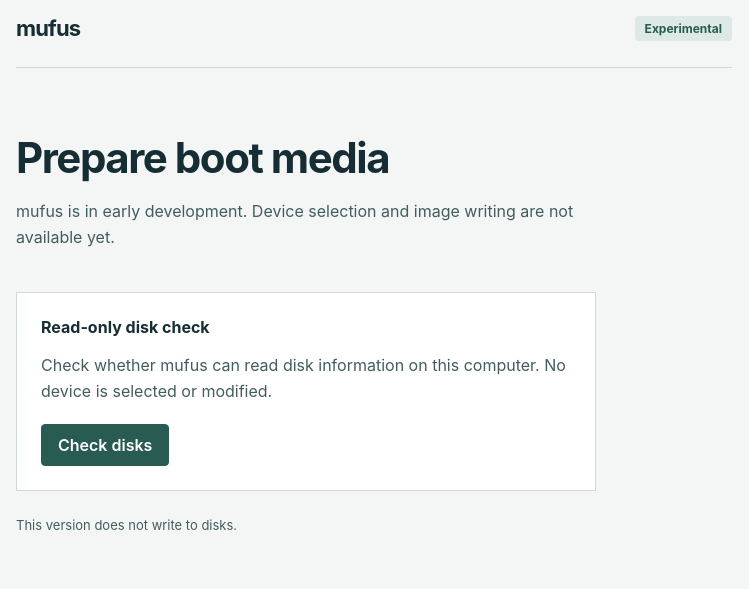
Scenario: reports a failed disk check and allows retry
Click the button "Check disks": click(105, 445) [41, 424, 169, 466]
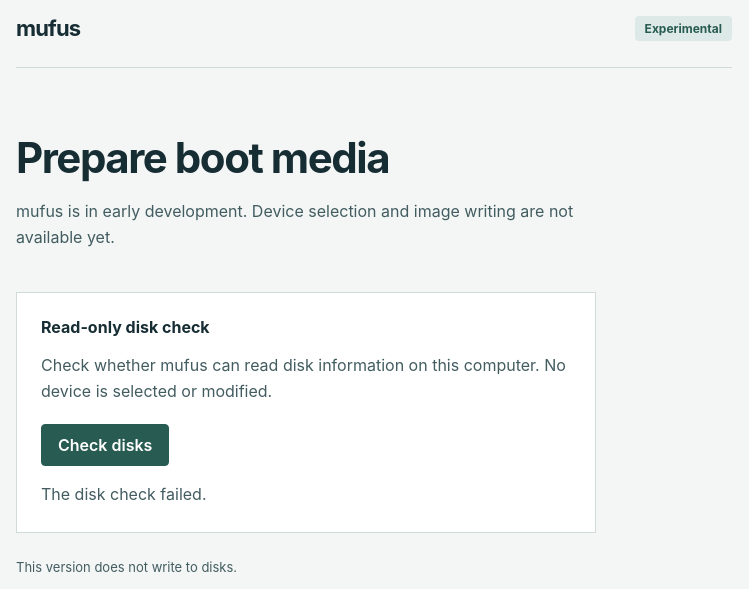
Expected: the text "The disk check failed." is shown, [41, 484, 206, 504]
Click the button "Check disks": click(105, 445) [41, 424, 169, 466]
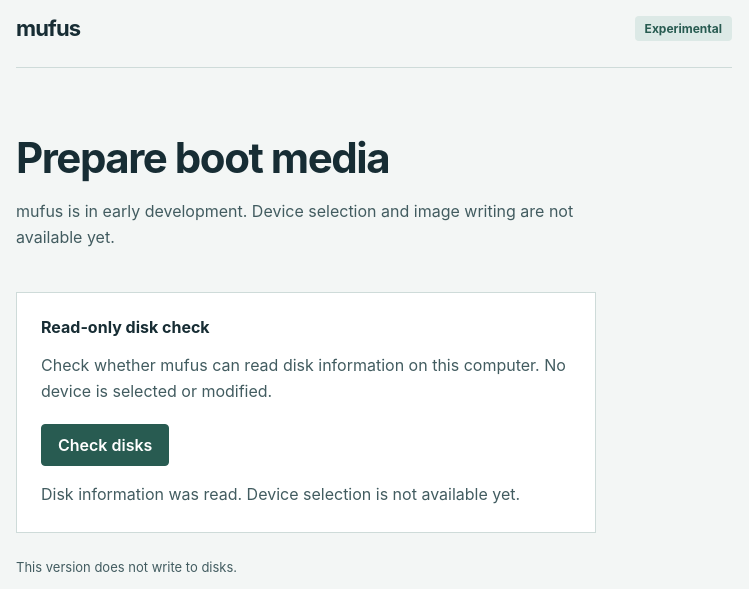
Expected: the text "Disk information was read" is shown, [41, 484, 520, 504]
